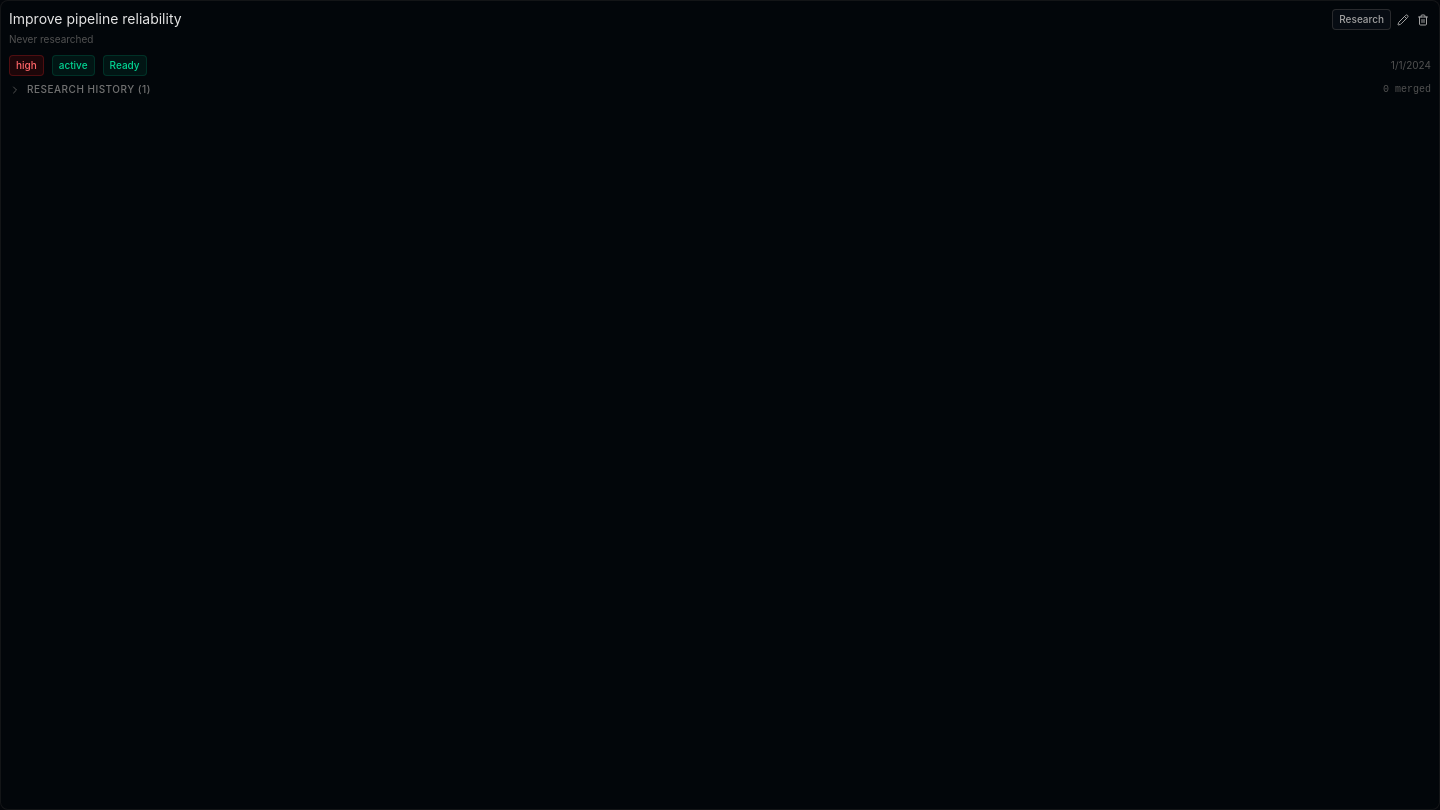
DirectionCard autonomous/assisted merge split › shows 0 PRs shipped badge when attribution present but both zero
This screenshot has width=1440, height=810.
Click the button "Research History (1) 0 merged".
click(85, 89)  # box [9, 82, 1431, 97]
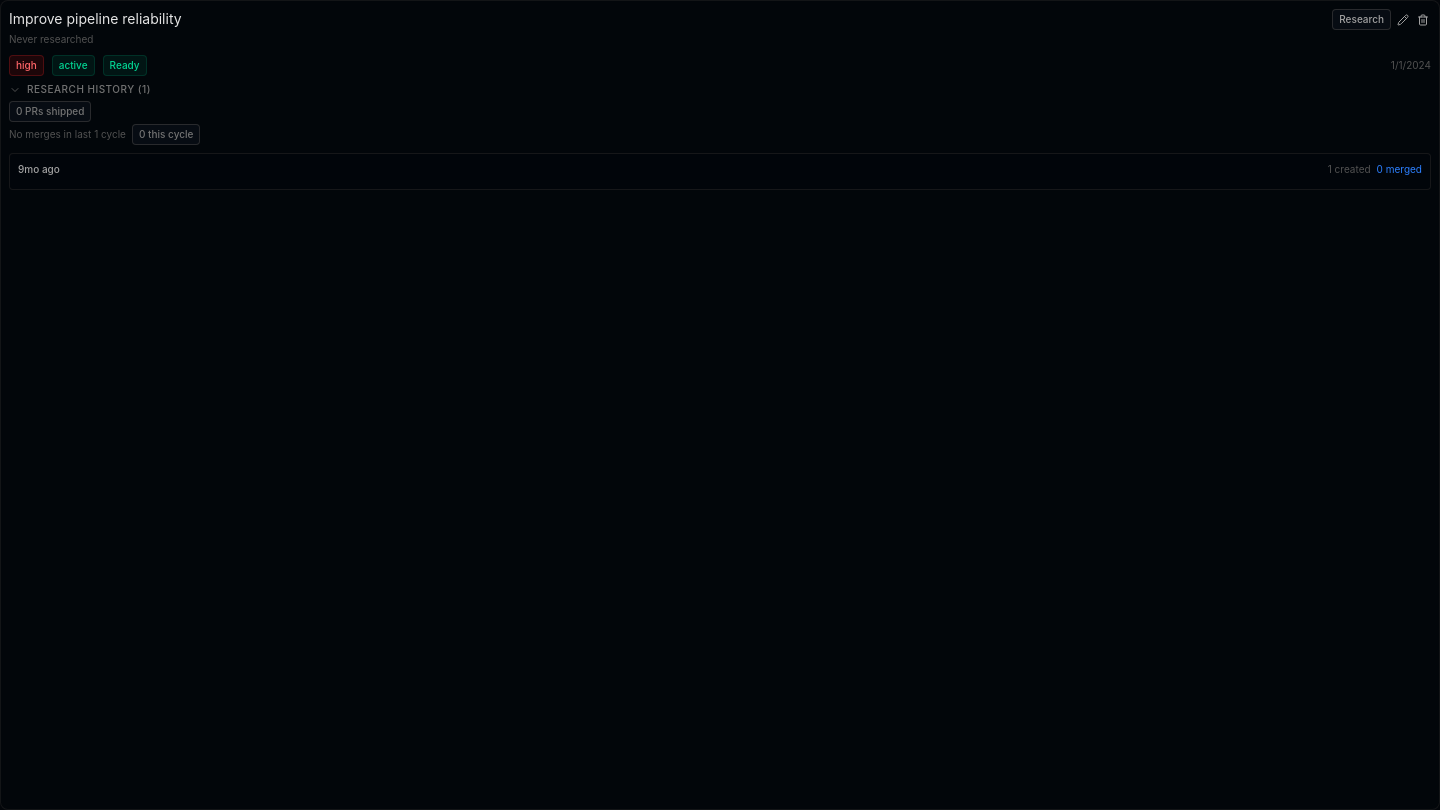
Expected: the text "0 PRs shipped" is shown, [9, 101, 91, 122]
